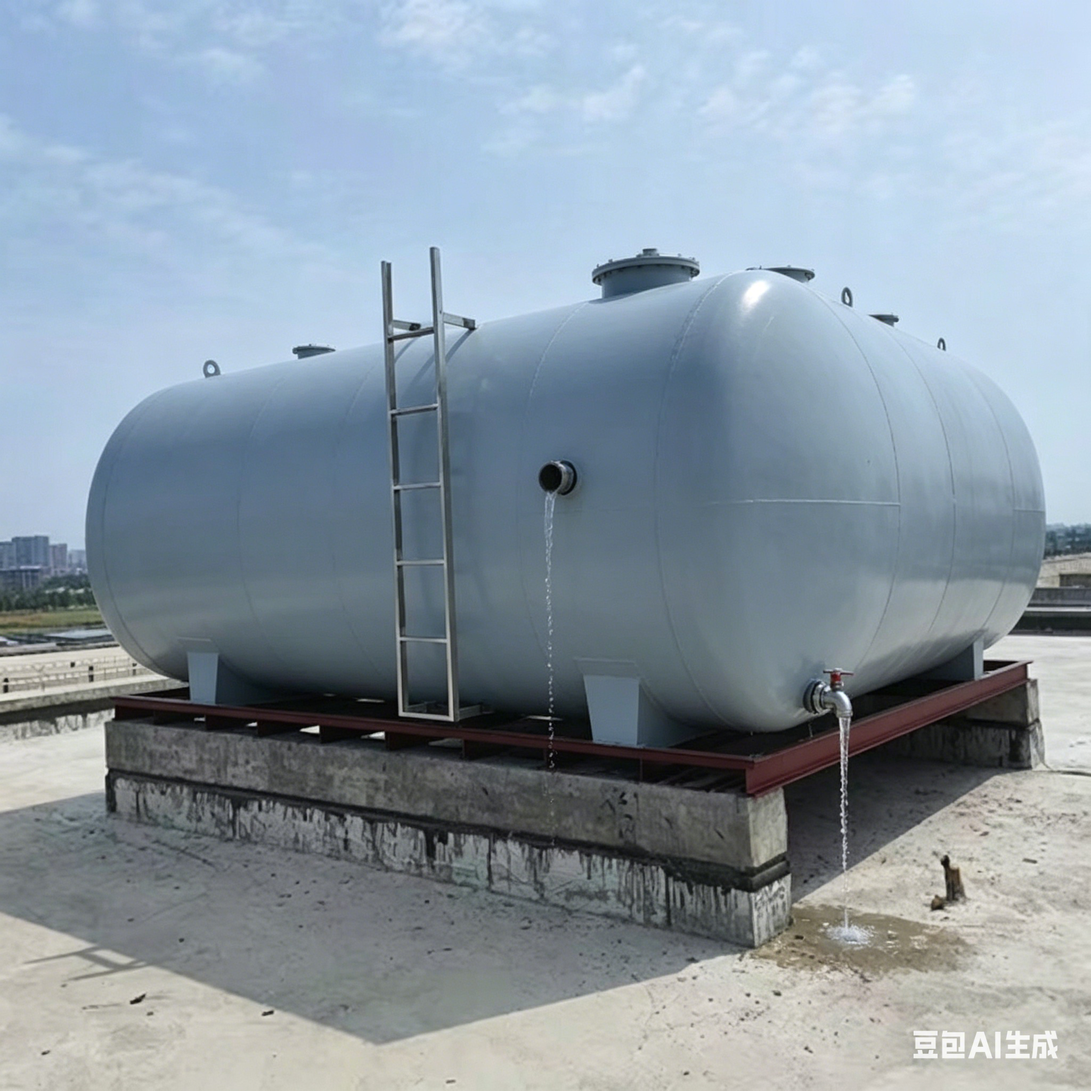Leakage: (834, 710, 882, 957), (537, 487, 566, 842)
